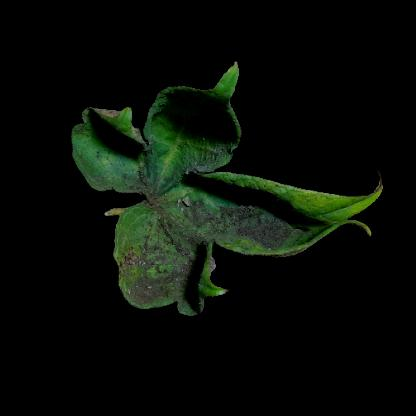curl_stage1: (297, 191, 359, 213)
sooty: (169, 186, 294, 258), (122, 216, 195, 300), (121, 158, 169, 207), (176, 127, 231, 165)
